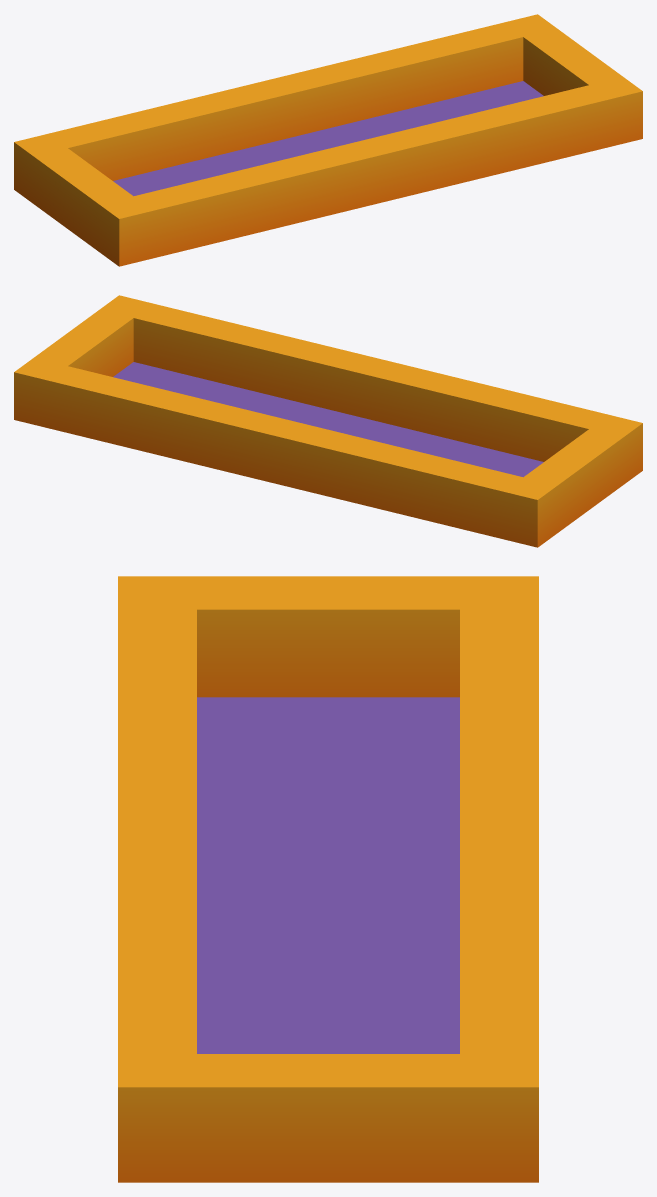
Rendered from Gound_Socket_01.fbx.
The picture shows the model from 3 angles, top to bottom: view 1: azimuth 30°, elevation 25°; view 2: azimuth 150°, elevation 25°; view 3: azimuth 270°, elevation 25°; orthographic projection. The views are drawn at different scales.
Parts seen in each view (by area): view 1: Obstacle_Gound_Socket_01; view 2: Obstacle_Gound_Socket_01; view 3: Obstacle_Gound_Socket_01.
Part boxes in pixels (left/top/right/bottom): Obstacle_Gound_Socket_01: left=14, top=14, right=642, bottom=266; Obstacle_Gound_Socket_01: left=14, top=295, right=642, bottom=547; Obstacle_Gound_Socket_01: left=118, top=576, right=538, bottom=1182.
Bounding box in the file's own units: 57.5 × 5 × 20.
1 material, 1 textured.
